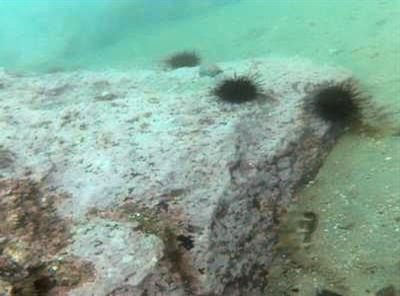urchin: (311, 84, 364, 125), (213, 74, 263, 105), (162, 49, 205, 70)
